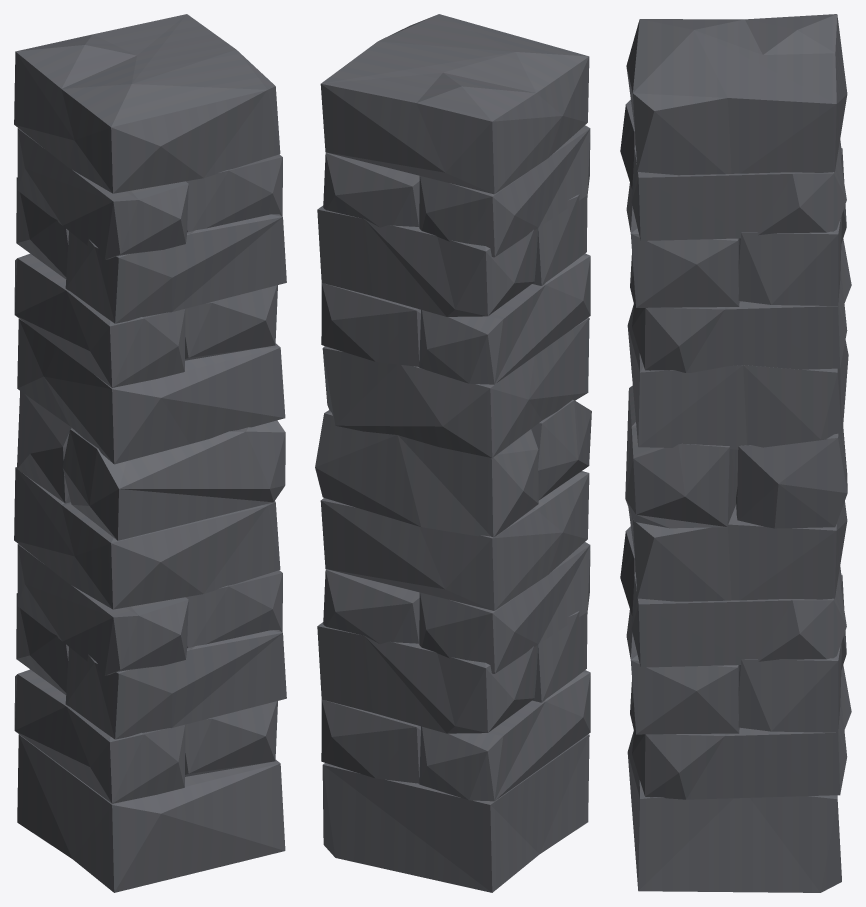
Rendered from Wall_2C.fbx.
3 renders of one model, left to right at view 1: azimuth 30°, elevation 25°; view 2: azimuth 150°, elevation 25°; view 3: azimuth 270°, elevation 25°, orthographic. The views are drawn at different scales.
Visible parts, largest first — view 1: polySurface10177; view 2: polySurface10177; view 3: polySurface10177.
Boxes of the visible parts, x1,y1,x2,y2 form: polySurface10177: [14, 14, 286, 892]; polySurface10177: [315, 14, 591, 892]; polySurface10177: [620, 14, 851, 892].
Bounding box in the file's own units: 112 × 441 × 116.
